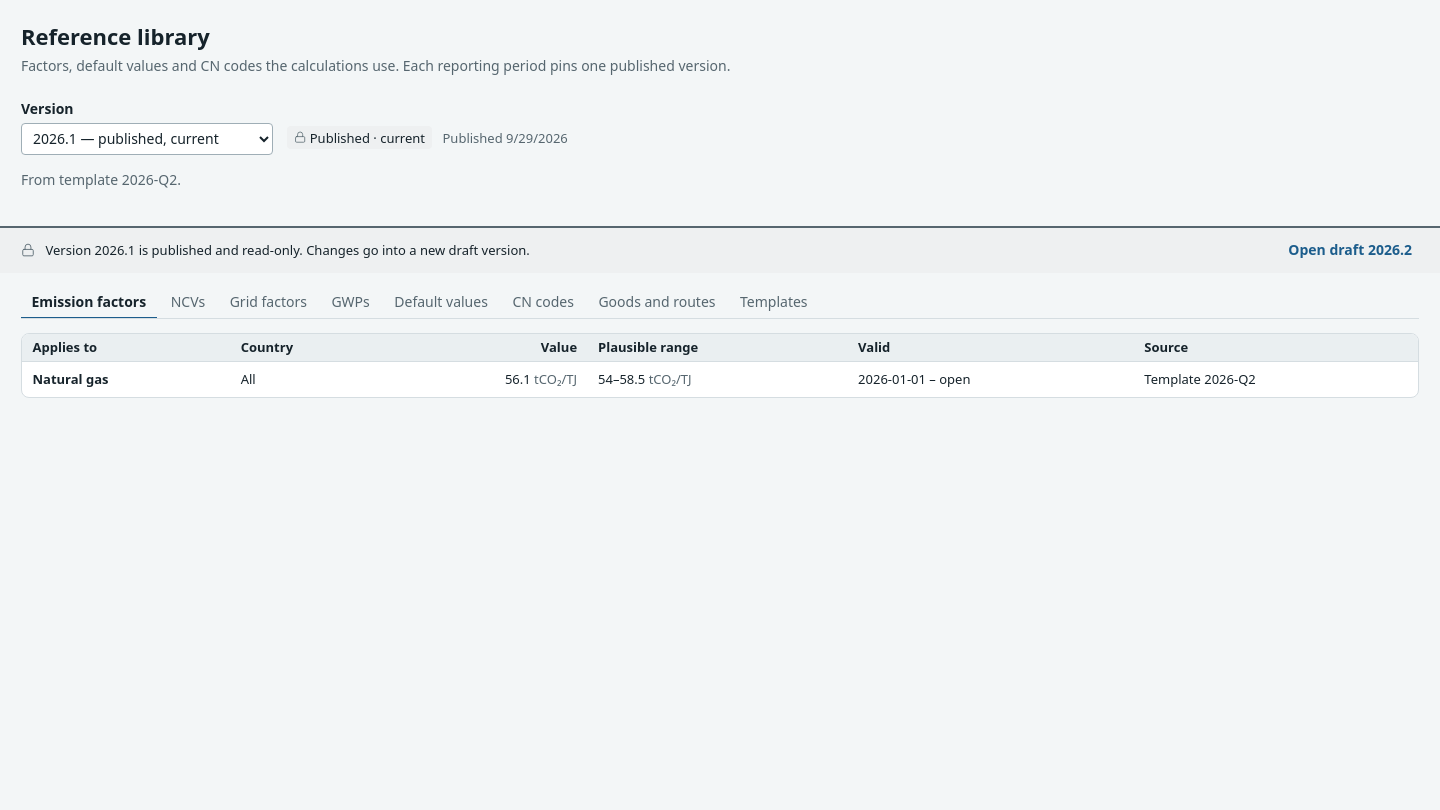
Test: reference library › publishing shows the diff and needs the version code typed back
Select "2026.2 — draft" in the dropdown labelled "Version" at {"x": 147, "y": 139}, box [21, 123, 273, 154]
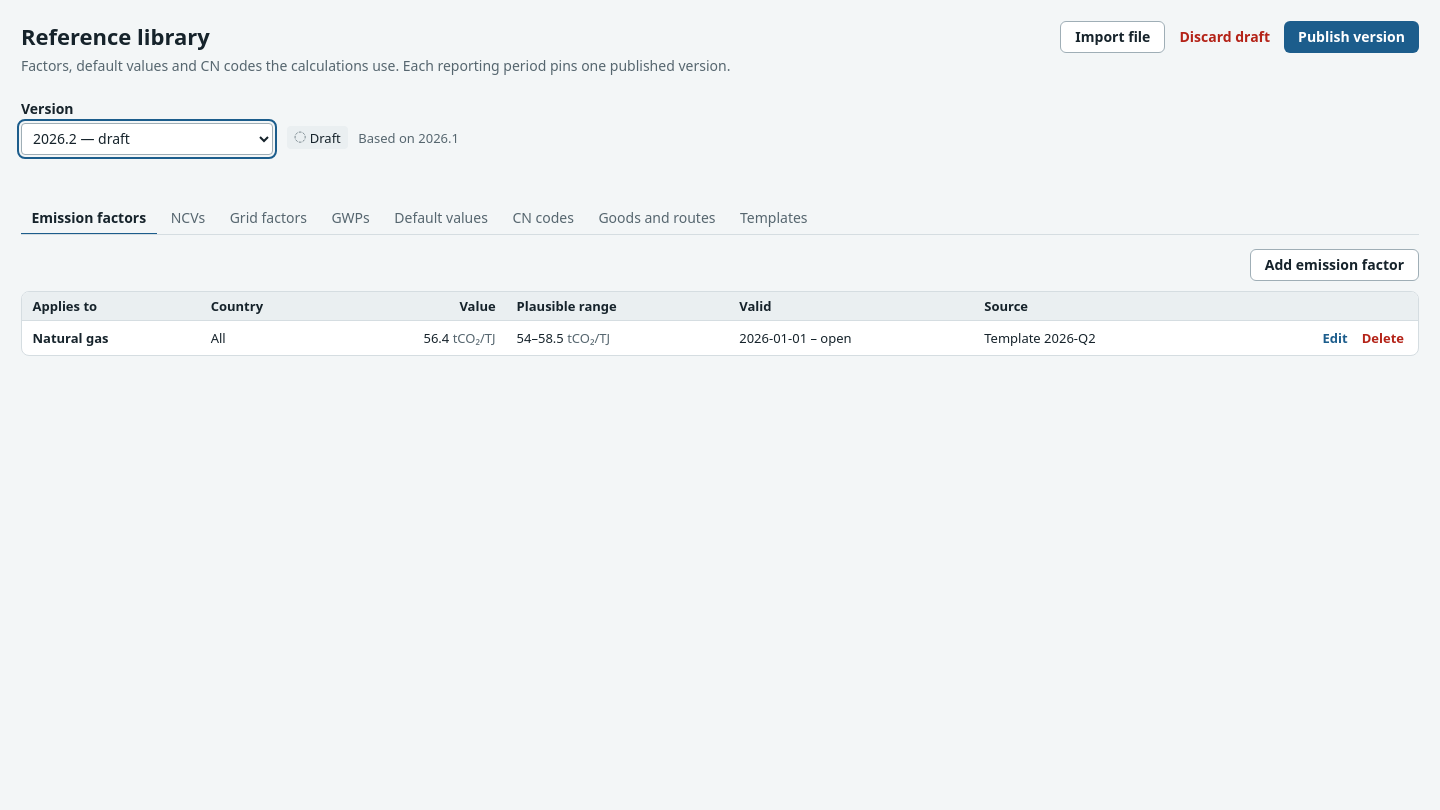
Click the button "Publish version" at {"x": 1352, "y": 37}, box [1284, 21, 1419, 52]
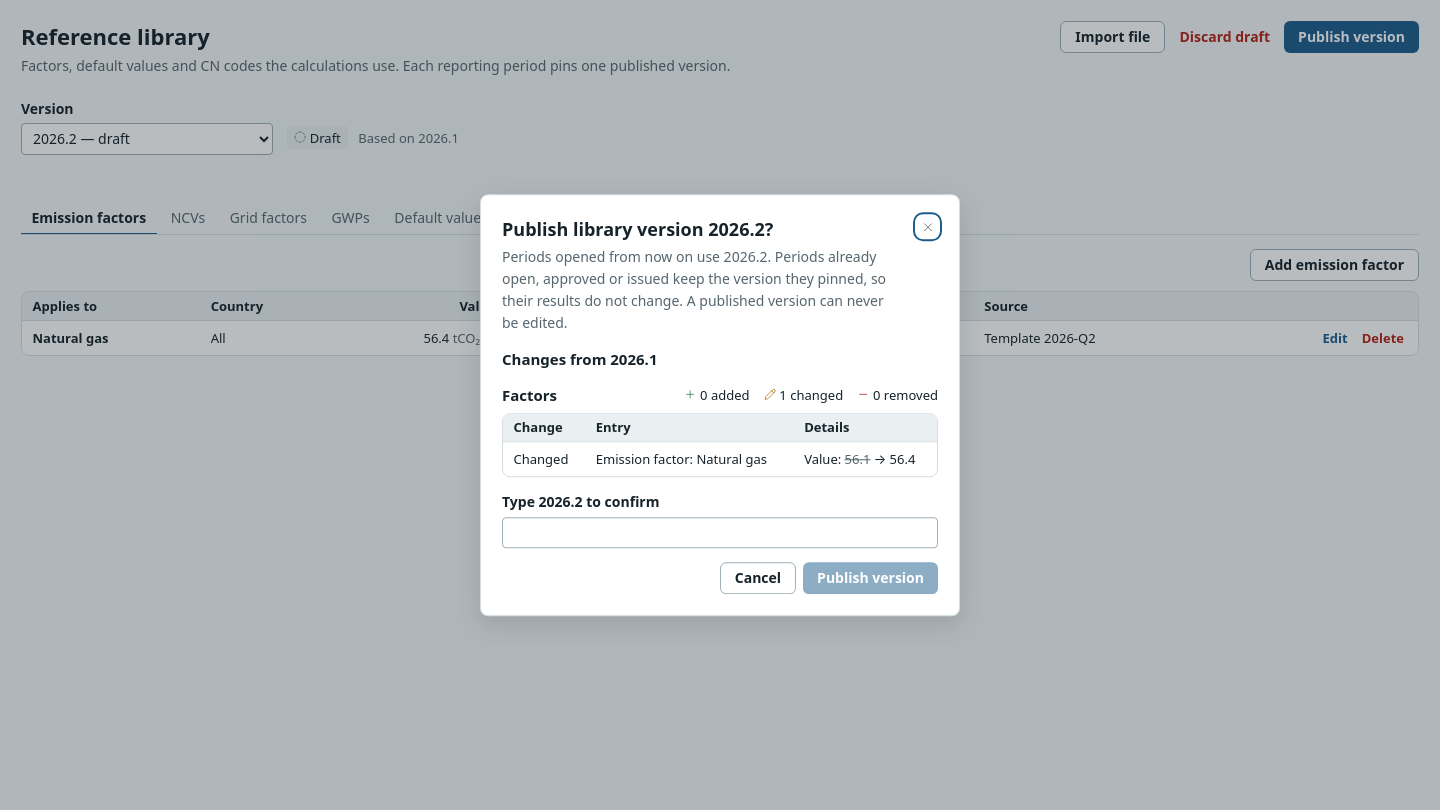
Now the text "Periods already open, approved or issued keep the version they pinned" is shown, box [502, 247, 886, 332]
Now the text "Emission factor: Natural gas" is shown, box [585, 442, 794, 476]
Now the button "Publish version" is disabled, box [803, 562, 938, 594]
Type "2026.2" into the field labelled "Type 2026.2 to confirm" at {"x": 720, "y": 533}, box [502, 517, 938, 548]
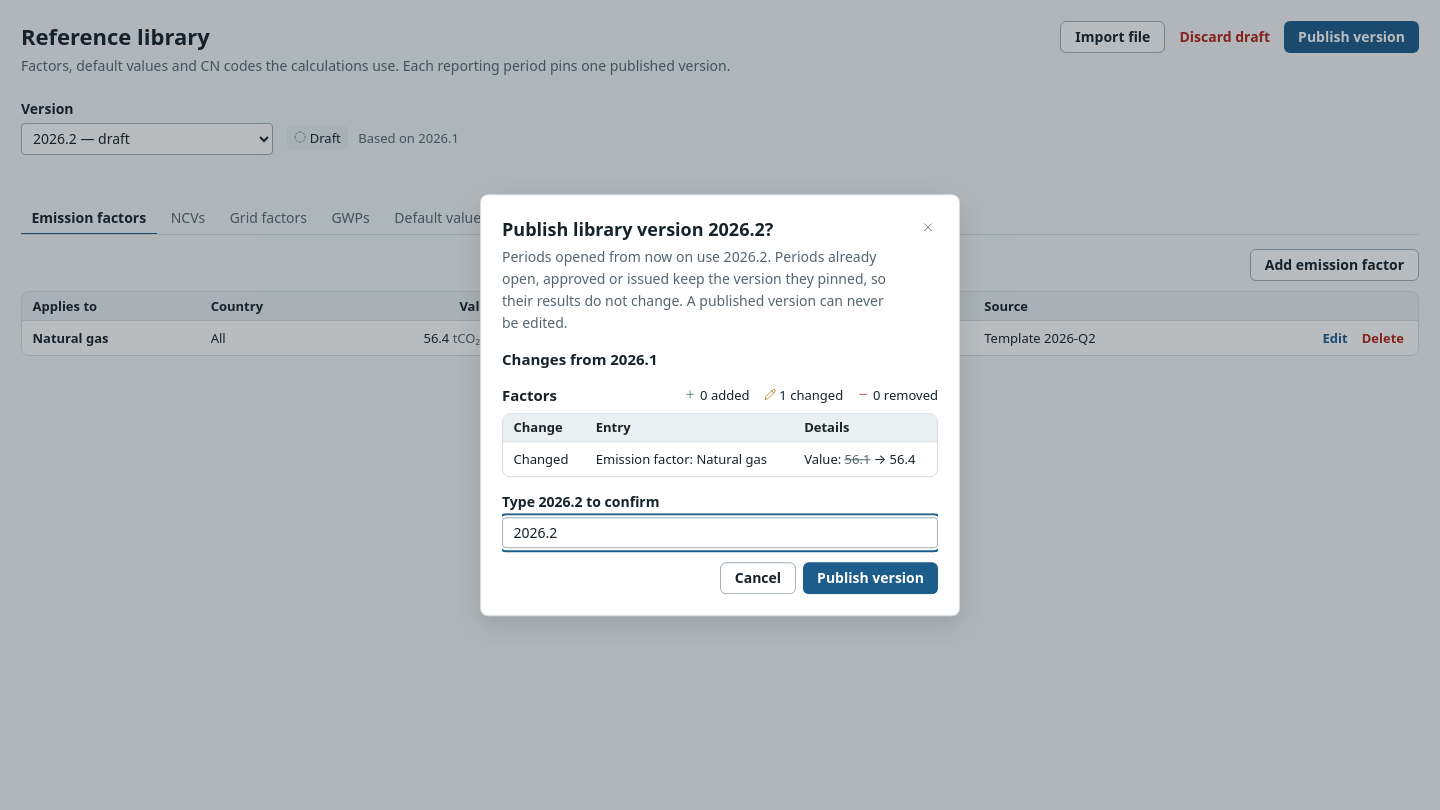
Click the button "Publish version" at {"x": 871, "y": 578}, box [803, 562, 938, 594]
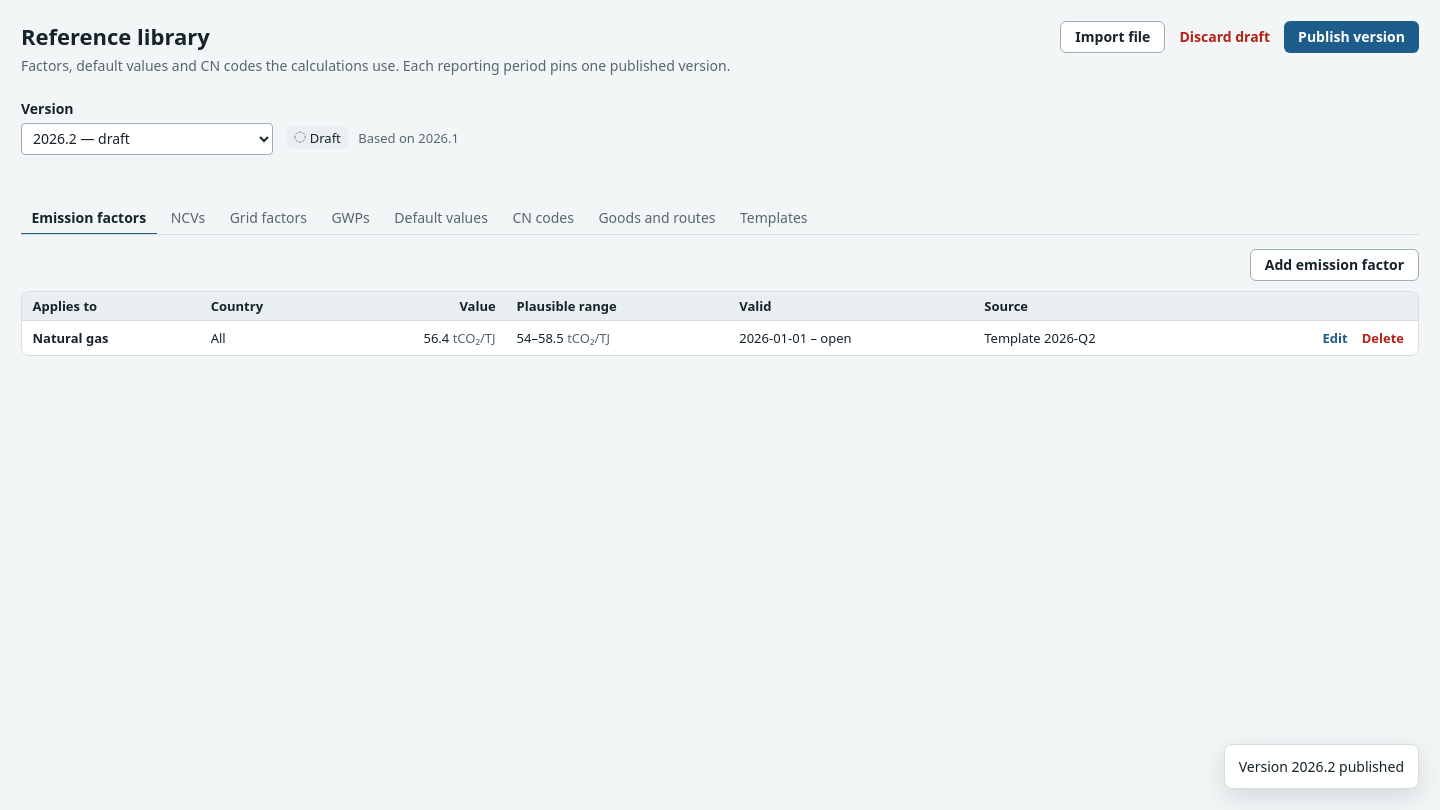
Now the text "Version 2026.2 published" is shown, box [1224, 744, 1419, 789]
